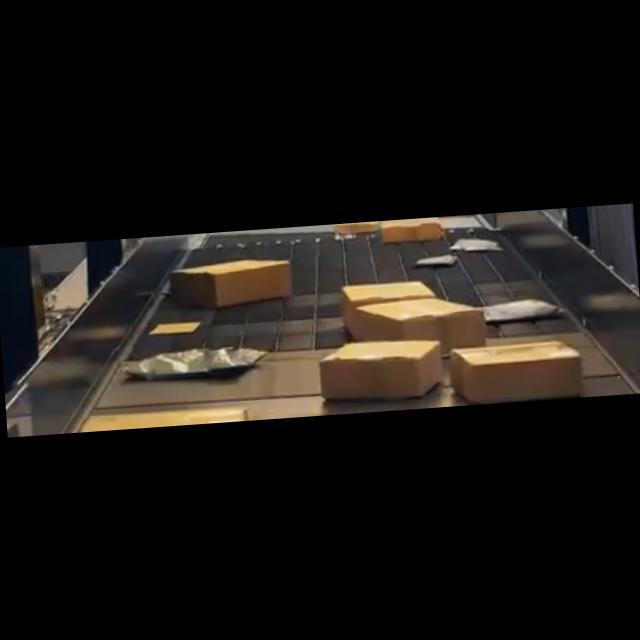box: (449, 338, 585, 407), (316, 336, 446, 406), (356, 294, 487, 358), (168, 258, 294, 308), (339, 280, 440, 338), (76, 403, 248, 432), (380, 217, 442, 244)
mailer: (127, 344, 268, 382), (478, 296, 558, 326), (452, 235, 498, 255), (416, 254, 456, 270), (149, 322, 199, 334)
